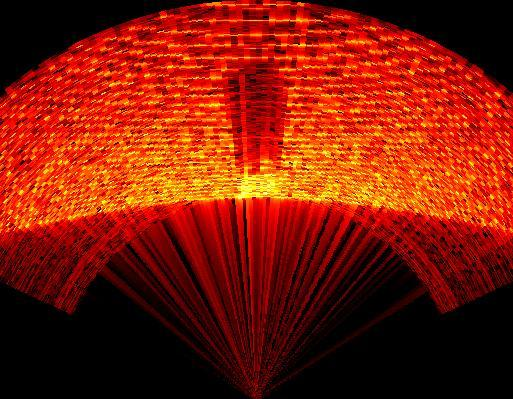box_crate: (220, 55, 291, 168)
